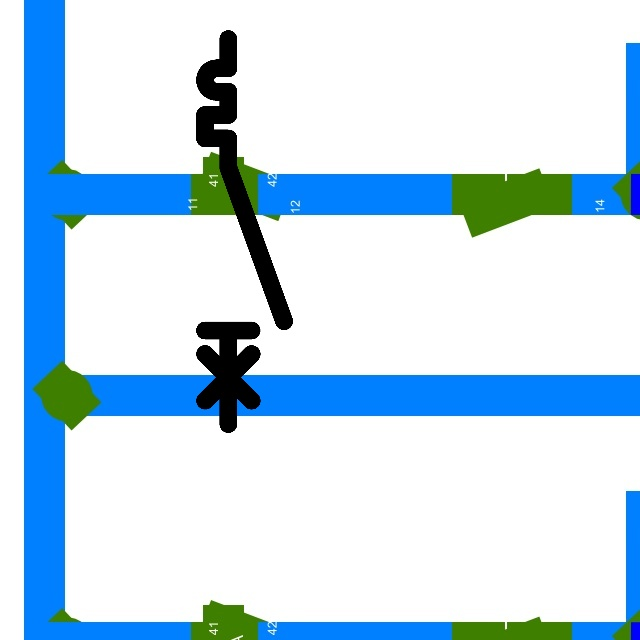interruptor_termomagnetico: (195, 29, 294, 434)
